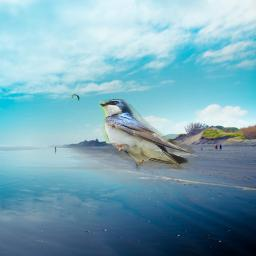Swallow: (99, 99, 197, 172)
